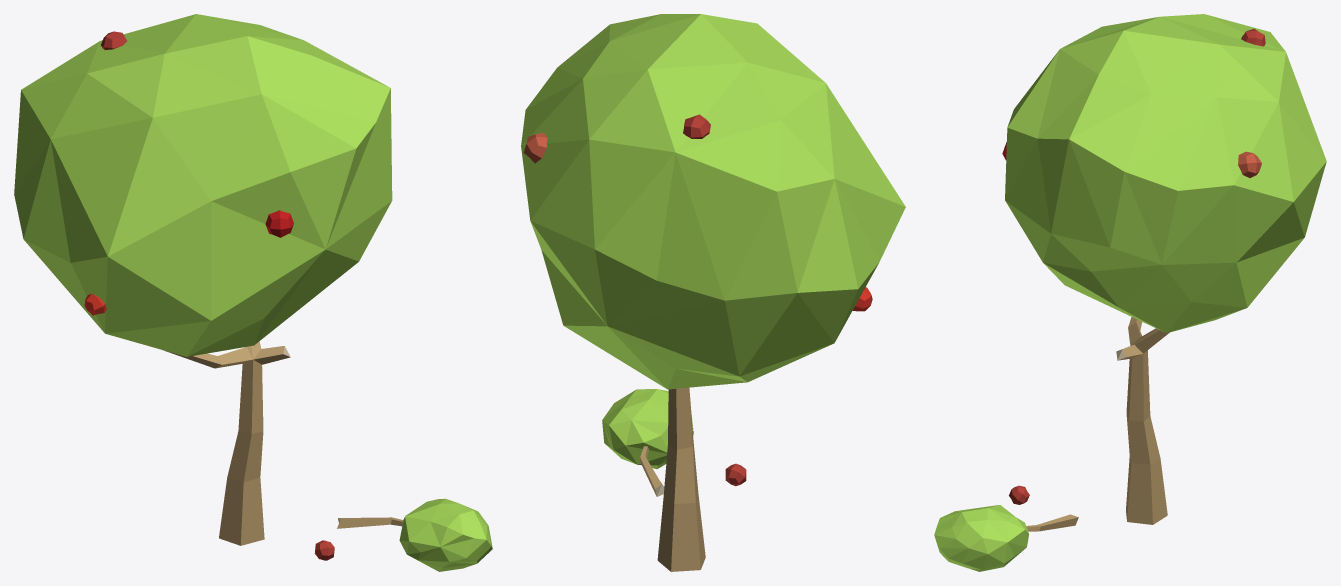
Rendered from Apple_Tree_Apples_crk_m_02_LOD.fbx.
The picture shows the model from 3 angles, left to right: view 1: azimuth 30°, elevation 25°; view 2: azimuth 150°, elevation 25°; view 3: azimuth 270°, elevation 25°; orthographic projection. The views are drawn at different scales.
Visible parts, largest first — view 1: Apple_Tree_Apples_crk_m_02_LOD0; view 2: Apple_Tree_Apples_crk_m_02_LOD0; view 3: Apple_Tree_Apples_crk_m_02_LOD0.
Boxes of the visible parts, <box> form: Apple_Tree_Apples_crk_m_02_LOD0: <box>14,14,492,571</box>; Apple_Tree_Apples_crk_m_02_LOD0: <box>521,14,905,571</box>; Apple_Tree_Apples_crk_m_02_LOD0: <box>934,14,1326,571</box>.
Size of what is drawn, in the model's own units: 476 by 668 by 492.
